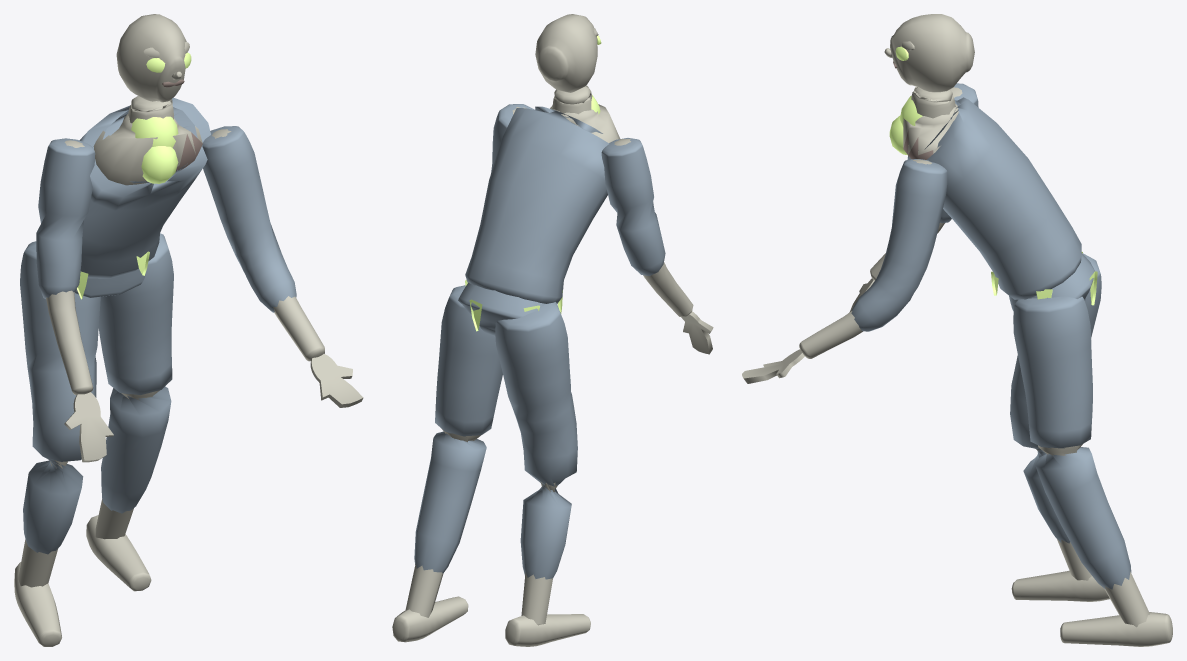
File: undead-horde-and-infected-variants-spitter-infected-7b2113d8__12005.glb
3 views of the same model, side by side, from view 1: azimuth 30°, elevation 25°; view 2: azimuth 150°, elevation 25°; view 3: azimuth 270°, elevation 25° (orthographic). The views are drawn at different scales.
Visible parts, largest first — view 1: spitter-infected; view 2: spitter-infected; view 3: spitter-infected.
Boxes of the visible parts, x1,y1,x2,y2 form: spitter-infected: (14, 14, 363, 646); spitter-infected: (392, 14, 713, 646); spitter-infected: (742, 14, 1172, 646).
Bounding box in the file's own units: 0.6538 × 1.65 × 1.06.
